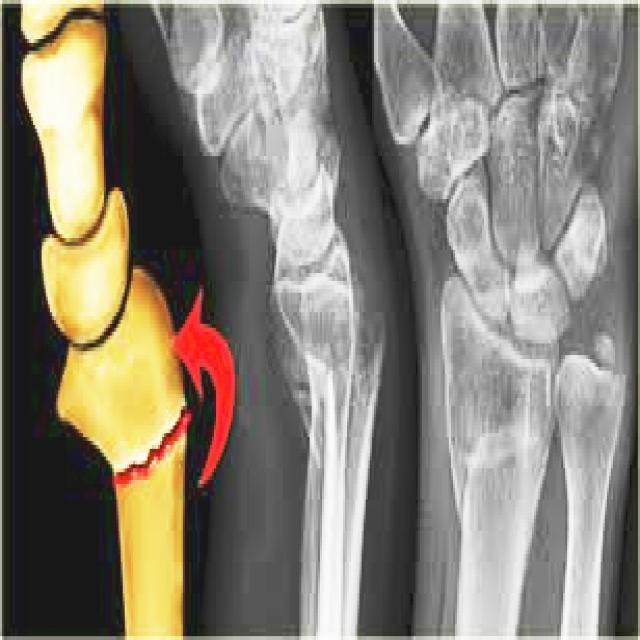Comminuted Fracture: (306, 270, 398, 353), (538, 323, 640, 391)
